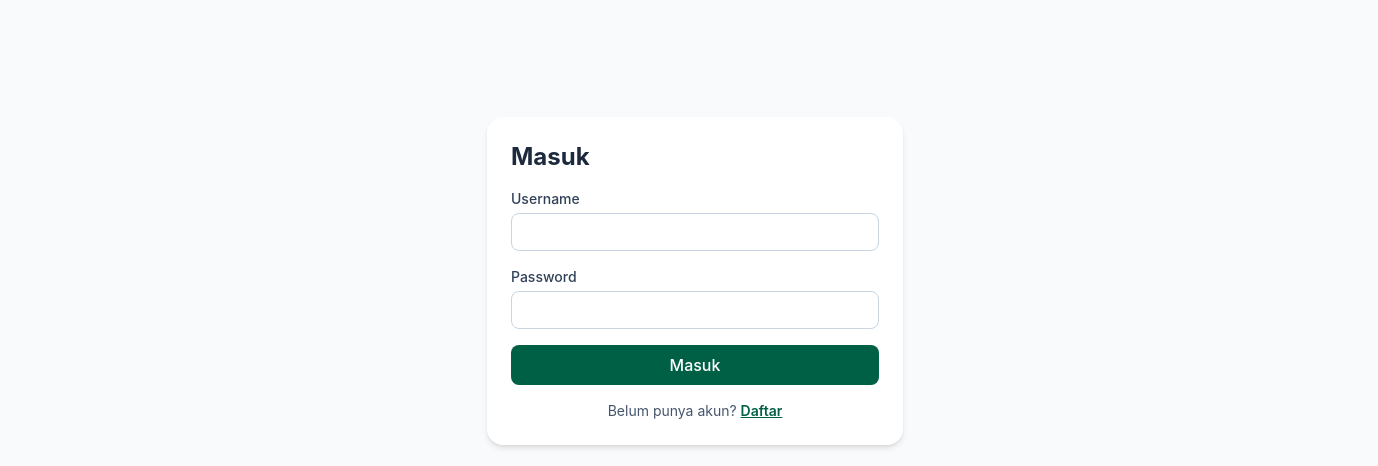
Scenario: LoginPage › kembali ke halaman asal (state.from) setelah login
Check: the element showing "Masuk Username Password Masuk Belum punya akun? Daftar" is shown, box [487,117,903,445]
Type "a" into the field with id "login-username". click: [695, 232]
box: [511,213,879,251]
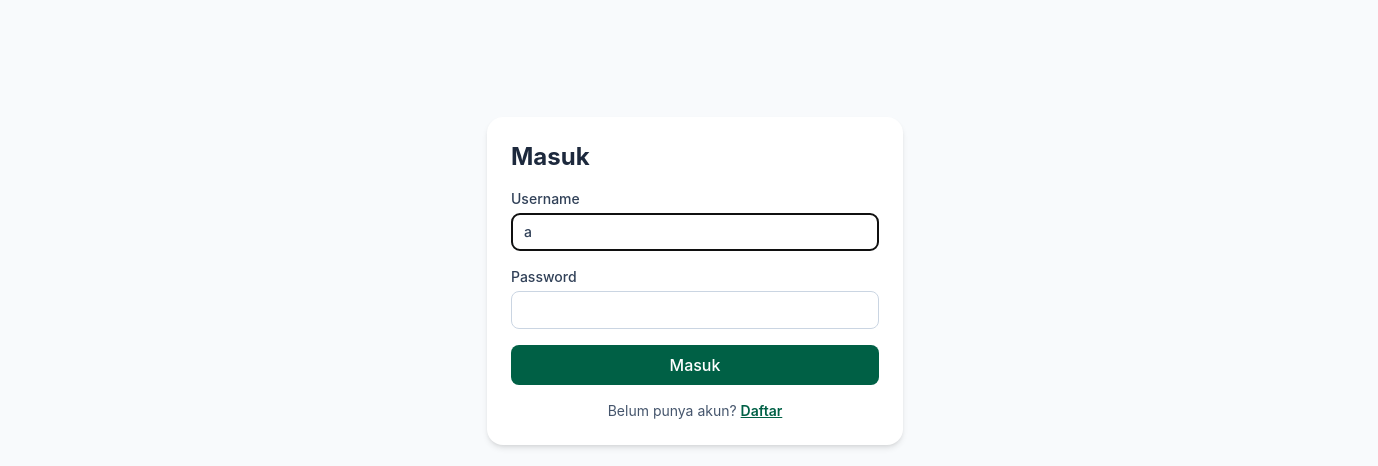
Type "b" into the password field with id "login-password". click: [695, 310]
box: [511,291,879,329]
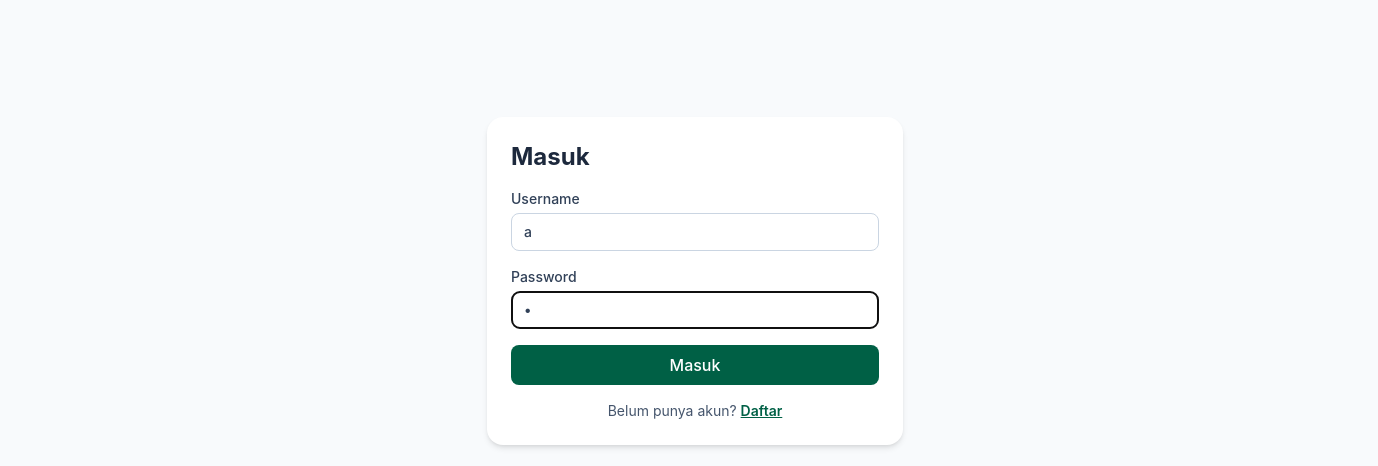
Click the button with id "login-submit". click: [695, 365]
box: [511,345,879,385]
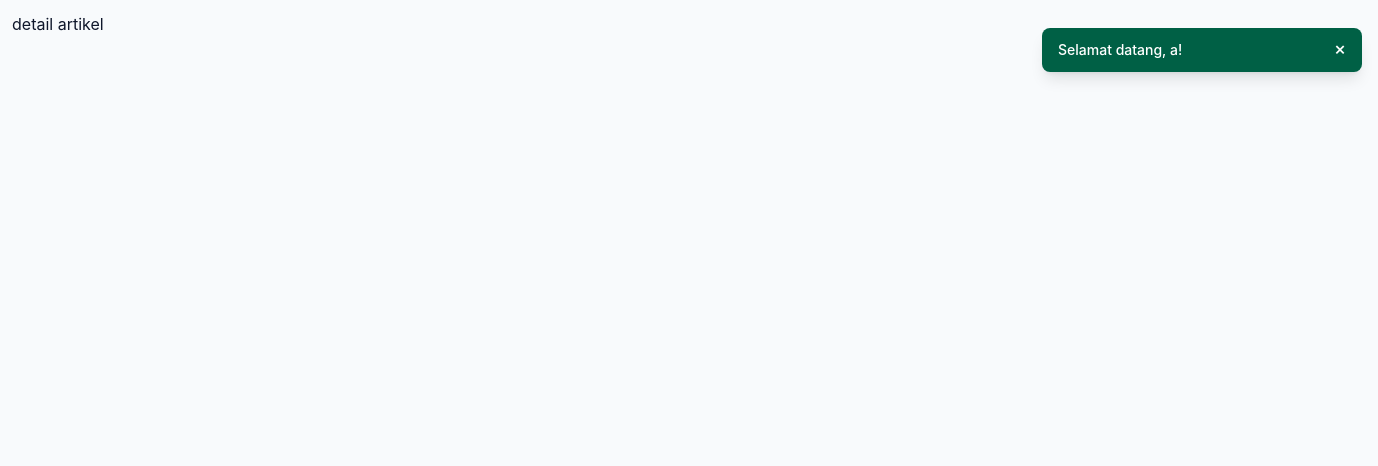
Check: the text "detail artikel" is shown, box [12,14,104,34]
